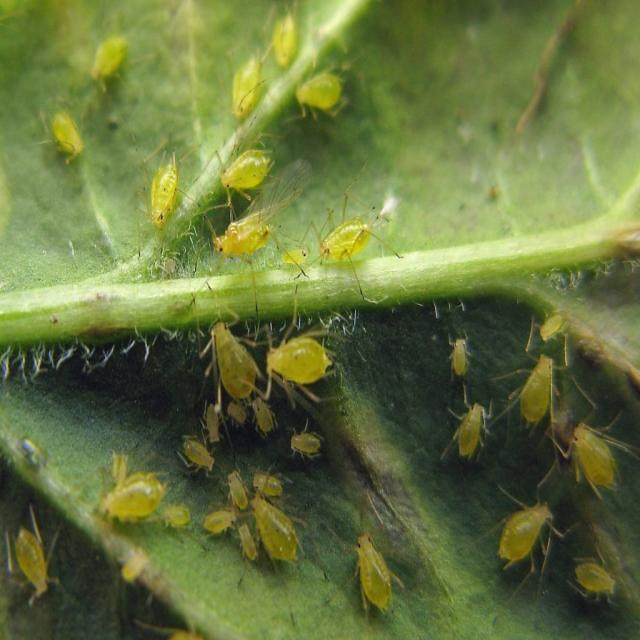Aphids: (85, 290, 355, 594), (218, 12, 402, 264), (480, 469, 631, 617), (49, 18, 138, 188), (336, 526, 420, 626), (440, 318, 496, 466), (510, 304, 566, 432), (558, 404, 626, 502), (0, 510, 59, 612), (148, 123, 182, 249)
